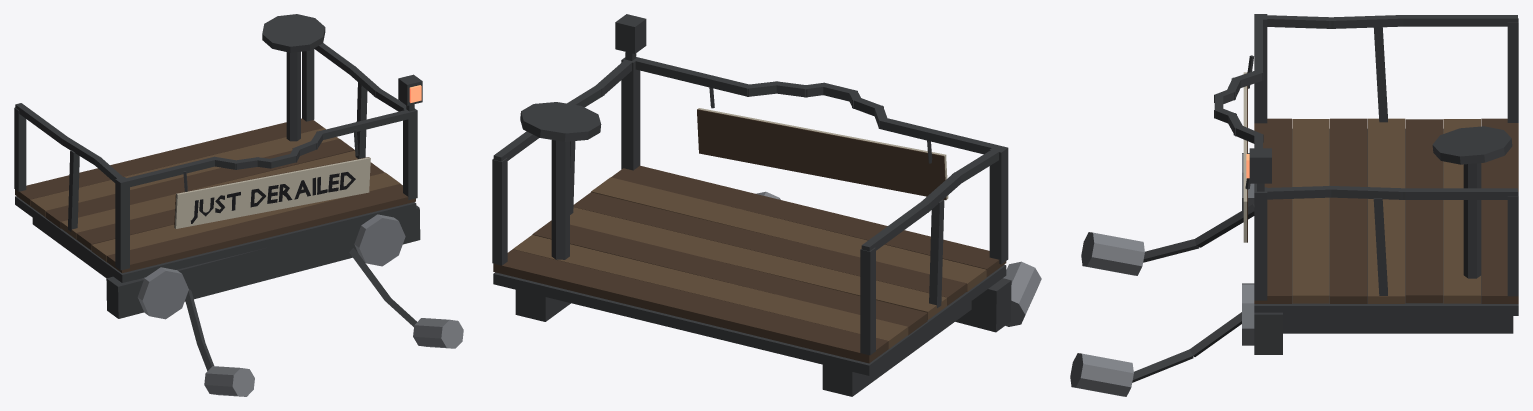
The model's file is rear_platform.glb.
3 renders of one model, left to right at view 1: azimuth 30°, elevation 25°; view 2: azimuth 150°, elevation 25°; view 3: azimuth 270°, elevation 25°, orthographic. The views are drawn at different scales.
Parts seen in each view (by area): view 1: Platform; view 2: Platform; view 3: Platform.
Part boxes in pixels (<box>): Platform: <box>14,14,463,396</box>; Platform: <box>492,14,1041,396</box>; Platform: <box>1070,14,1518,396</box>.
Bounding box in the file's own units: 3.91 × 2.69 × 4.07.
